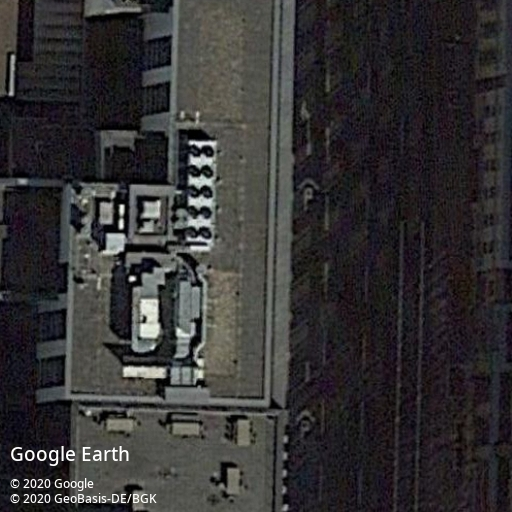Chiller: (184, 140, 217, 243)
